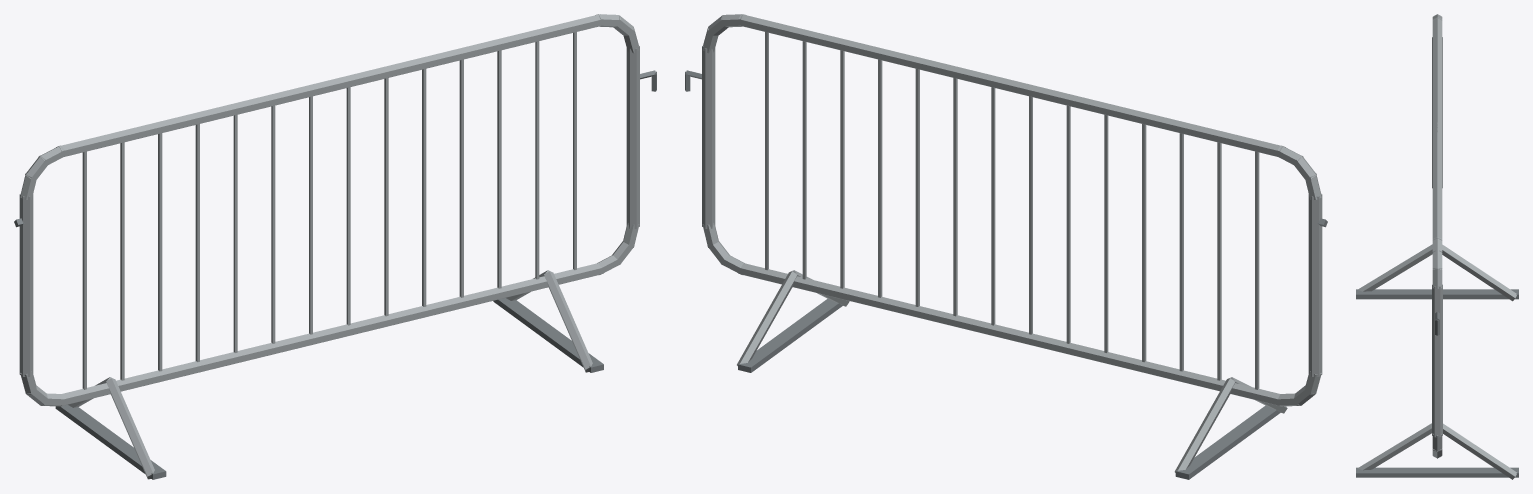
Rendered from lwf_crowd_barrier_v1.glb.
3 views of the same model, side by side, from view 1: azimuth 30°, elevation 25°; view 2: azimuth 150°, elevation 25°; view 3: azimuth 270°, elevation 25° (orthographic). The views are drawn at different scales.
Visible parts, largest first — view 1: LWF_CrowdBarrier; view 2: LWF_CrowdBarrier; view 3: LWF_CrowdBarrier.
Boxes of the visible parts, left/top/right/bottom form: LWF_CrowdBarrier: left=14, top=14, right=656, bottom=479; LWF_CrowdBarrier: left=685, top=14, right=1327, bottom=479; LWF_CrowdBarrier: left=1356, top=14, right=1518, bottom=479.
Bounding box in the file's own units: 2.43 × 1.13 × 0.64.
Materials: 1 (1 with a texture image).
